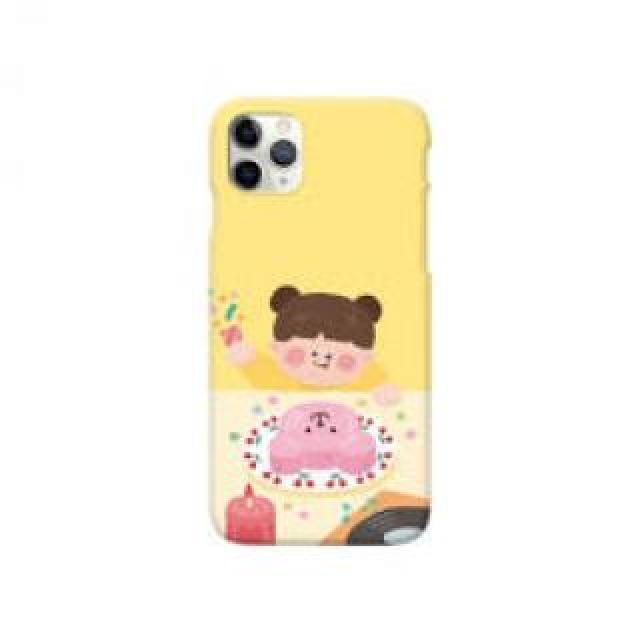smart phone: (183, 40, 472, 522)
